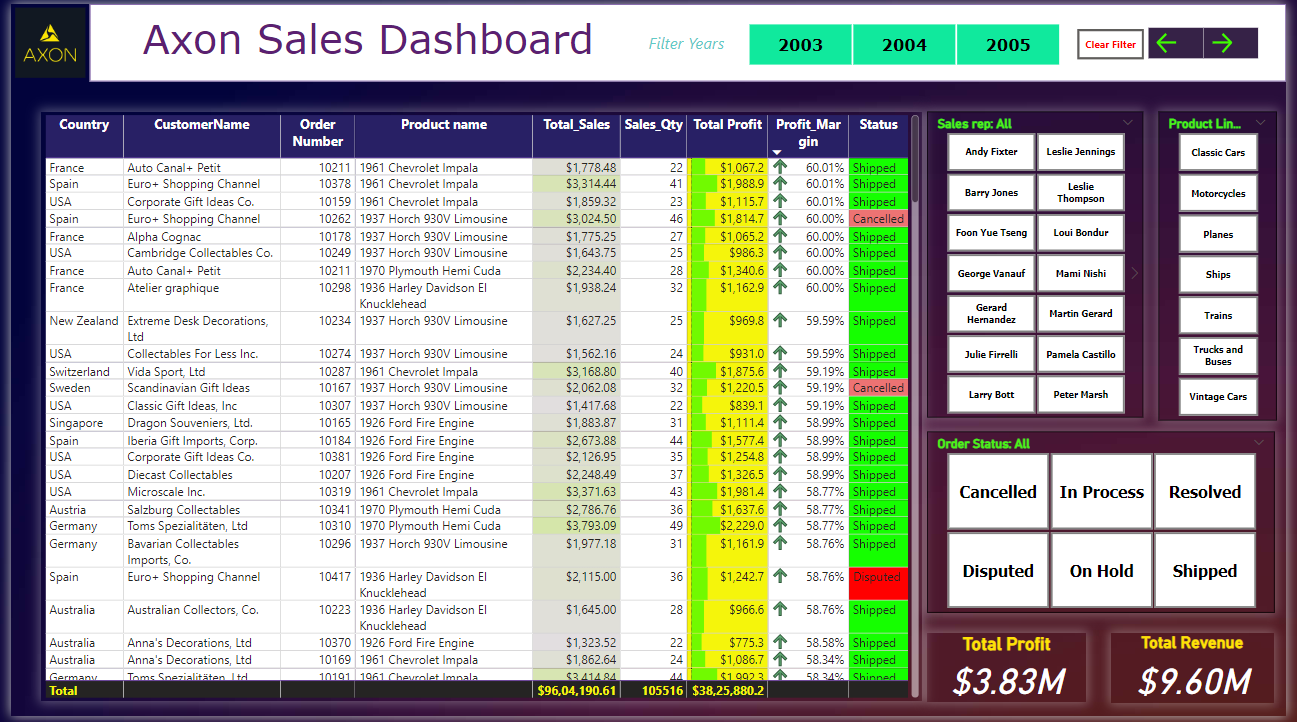

Layout of this report page (visuals, bound fields, positions):
{"tool":"powerbi","page":{"name":"Order Details","canvas":[1700,950],"ordinal":4},"visuals":[{"type":"image","box":[0,0,105,103.4],"z":0},{"type":"slicer","fields":{"Values":["classicmodels products.productLine"]},"box":[1530.1,142.6,157.2,411.7],"z":1000},{"type":"tableEx","title":"Top 5 customer","fields":{"Values":["classicmodels customers.country","classicmodels customers.CustomerName","classicmodels orders.orderNumber","classicmodels products.productName","Base_Measures.billAmount","Base_Measures.Sales_Qty","Base_Measures.Total Profit","Sum(classicmodels orderdetails.SPP)","classicmodels orders.status"]},"box":[40,143.3,1175,786.7],"z":2000},{"type":"slicer","fields":{"Values":["classicmodels customers.Sales_Rep_Name"]},"box":[1221.7,143.3,288.3,408.3],"z":3000},{"type":"card","title":"Total Profit","fields":{"Values":["Base_Measures.Total Profit"]},"box":[1221.7,838.3,211.7,91.7],"z":4000},{"type":"card","title":"Total Revenue","fields":{"Values":["Base_Measures.Sales_Revenue"]},"box":[1466.7,838.3,216.7,93.3],"z":5000},{"type":"slicer","fields":{"Values":["classicmodels orders.status"]},"box":[1221.7,570,463.3,241.7],"z":6000},{"type":"shape","box":[104.8,0,1595.2,103.2],"z":7000},{"type":"textbox","box":[114.5,8.1,722.6,79],"z":8000},{"type":"slicer","title":"Year","fields":{"Values":["DATES.Date.Variation.Date Hierarchy.Year"]},"box":[958,19.5,463.6,68.1],"z":9000},{"type":"actionButton","box":[1590.1,32.4,72.9,40.5],"z":10000},{"type":"actionButton","box":[1421.5,34,89.1,40.5],"z":11000},{"type":"textbox","box":[837,31.8,127.3,44.6],"z":12000},{"type":"actionButton","box":[1517.2,32.4,72.9,40.5],"z":13000}]}

Visuals, with their boxes in screenshot pixels (x1, y1, x2, y2), scaled from the page's 1700x950 canvas onto the 1297x722 screenshot:
image: 0:0:80:79
slicer - classicmodels products.productLine: 1167:108:1287:421
"Top 5 customer" tableEx: 31:109:927:707
slicer - classicmodels customers.Sales_Rep_Name: 932:109:1152:419
"Total Profit" card: 932:637:1094:707
"Total Revenue" card: 1119:637:1284:708
slicer - classicmodels orders.status: 932:433:1286:617
shape: 80:0:1296:78
textbox: 87:6:639:66
"Year" slicer: 731:15:1085:67
actionButton: 1213:25:1269:55
actionButton: 1085:26:1152:57
textbox: 639:24:736:58
actionButton: 1158:25:1213:55
